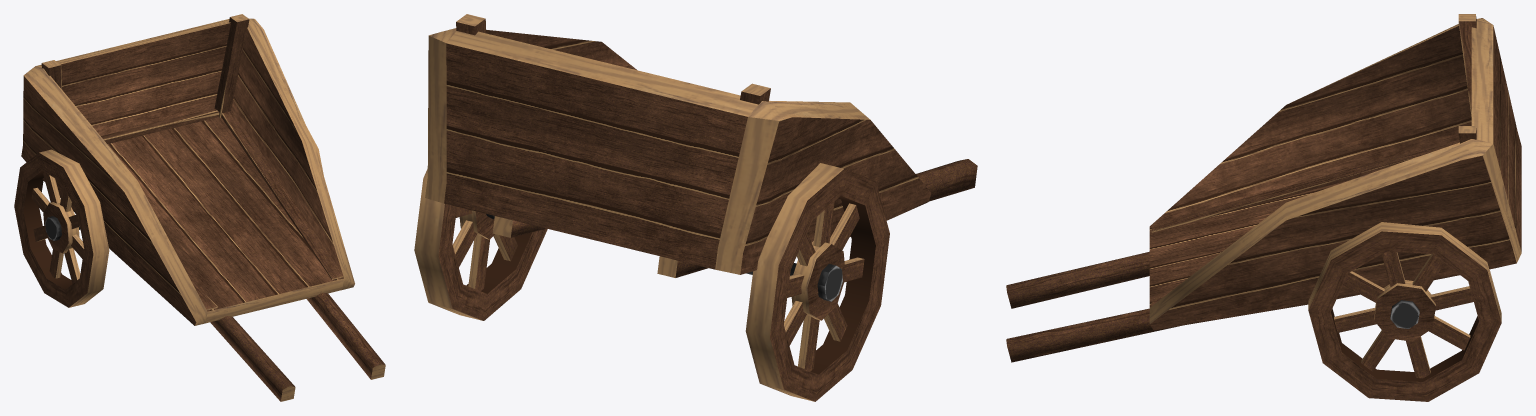
Rendered from Cart2.fbx.
The picture shows the model from 3 angles, left to right: view 1: azimuth 30°, elevation 25°; view 2: azimuth 150°, elevation 25°; view 3: azimuth 270°, elevation 25°; orthographic projection. The views are drawn at different scales.
Parts seen in each view (by area): view 1: Cart2; view 2: Cart2; view 3: Cart2.
Boxes of the visible parts, x1,y1,x2,y2 form: Cart2: [14, 14, 385, 401]; Cart2: [414, 14, 977, 401]; Cart2: [1006, 14, 1521, 401].
Size of the model in its own units: 110 by 92.72 by 168.
